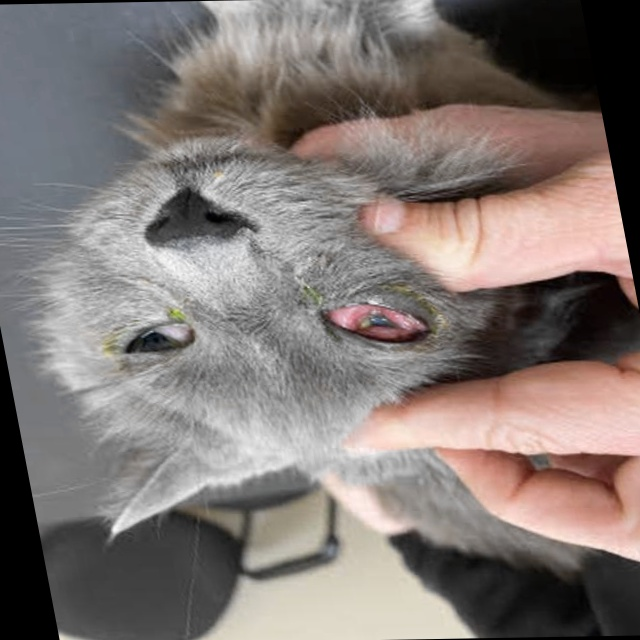eye_infection: (308, 287, 434, 352), (103, 320, 198, 357)
